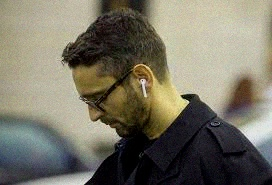earphone: (133, 64, 154, 98)
